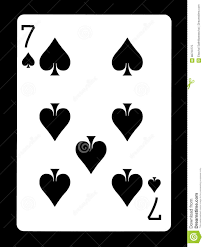seven of spades: (17, 13, 171, 231)
